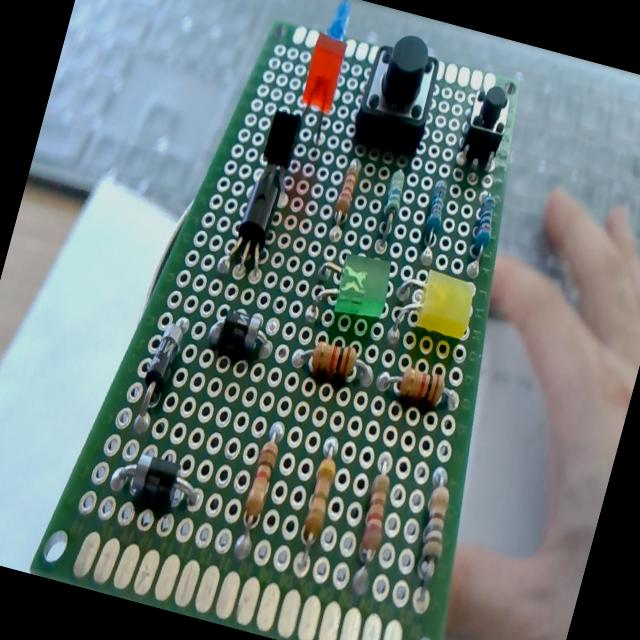diode: (129, 308, 193, 428), (108, 446, 205, 517), (204, 304, 276, 365)
led: (378, 260, 480, 370), (331, 248, 396, 325), (298, 32, 350, 116)
resistor: (342, 454, 401, 596), (402, 462, 464, 594), (290, 432, 345, 569), (230, 426, 284, 560), (373, 356, 458, 413), (290, 335, 376, 391), (372, 168, 409, 250), (465, 190, 501, 262), (418, 176, 452, 248), (332, 156, 364, 226)
switch: (349, 27, 447, 157), (454, 78, 516, 170)
transistor: (215, 168, 292, 275), (250, 96, 314, 172)
